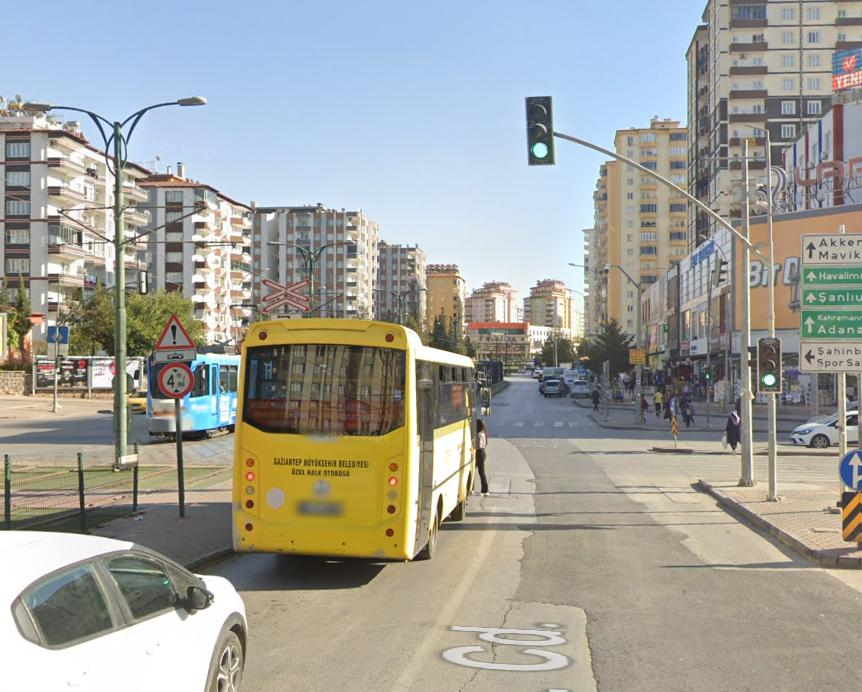greenlight: (527, 97, 552, 165), (759, 338, 779, 392), (704, 366, 710, 379)
